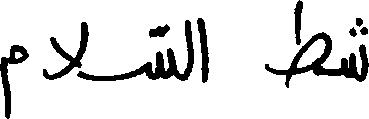X: (267, 0, 330, 92), (44, 17, 87, 84), (0, 40, 27, 118), (144, 19, 175, 84), (343, 13, 368, 86), (198, 13, 207, 87), (185, 15, 192, 84)
